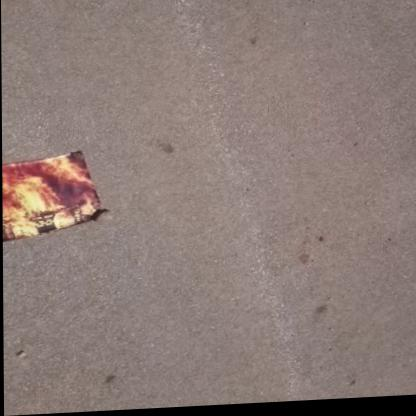fire-poster: (2, 148, 111, 243)
